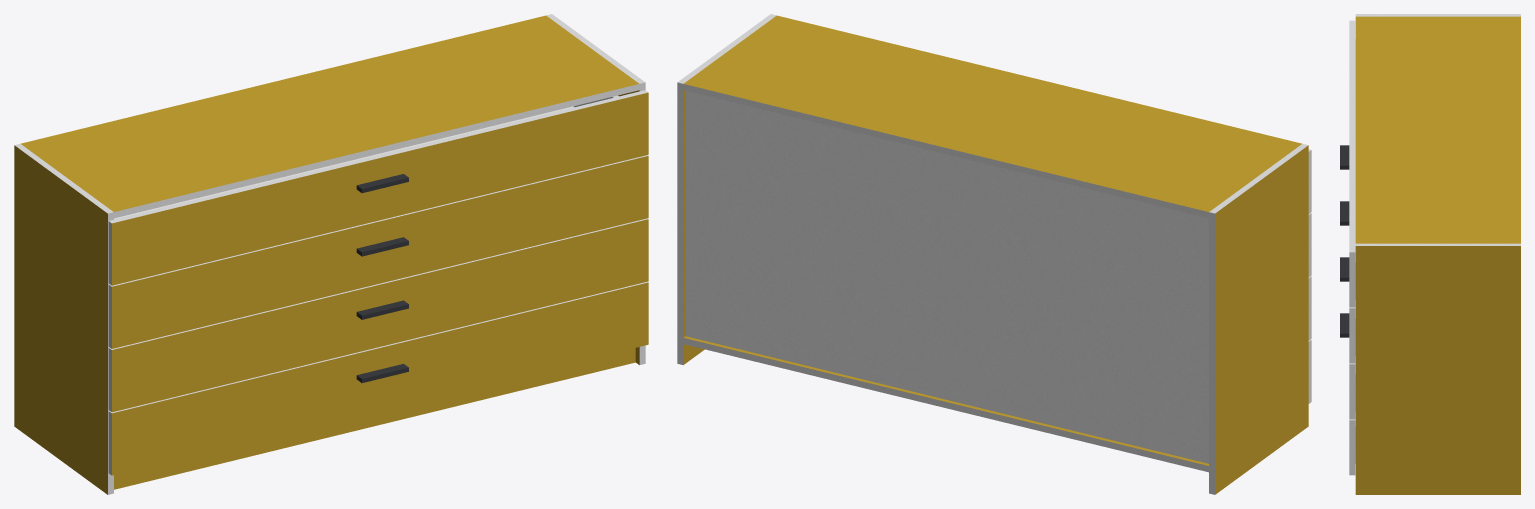
The model's file is FET-DRS-wide.glb.
The picture shows the model from 3 angles, left to right: view 1: azimuth 30°, elevation 25°; view 2: azimuth 150°, elevation 25°; view 3: azimuth 270°, elevation 25°; orthographic projection. The views are drawn at different scales.
Parts seen in each view (by area): view 1: top:pbr, d3-front:pbr, d1-front:pbr, d4-front:pbr, d2-front:pbr, side-l:pbr, plinth:pbr, top:sheet:eyJtIjoibWRmIiwic2lkZSI6ImVkZ2UtbG9uZyIsInNlZWQiOj, d4-front:sheet:eyJtIjoibWRmIiwic2lkZSI6ImVkZ2UtbG9uZyIsInNlZ, pull, d2-front:sheet:eyJtIjoibWRmIiwic2lkZSI6ImVkZ2UtbG9uZyIsInNlZ, d3-front:sheet:eyJtIjoibWRmIiwic2lkZSI6ImVkZ2UtbG9uZyIsInNlZ (+2 smaller); view 2: back:sheet:eyJtIjoibWRmIiwic2lkZSI6ImZhY2UiLCJzZWVkIjo0LCJ0a, top:pbr, side-l:pbr, top:sheet:eyJtIjoibWRmIiwic2lkZSI6ImVkZ2UtbG9uZyIsInNlZWQiOj, bottom:sheet:eyJtIjoibWRmIiwic2lkZSI6ImVkZ2UtbG9uZyIsInNlZWQ, side-r:sheet:eyJtIjoibWRmIiwic2lkZSI6ImVkZ2UtbG9uZyIsInNlZWQ, side-l:sheet:eyJtIjoibWRmIiwic2lkZSI6ImVkZ2UtbG9uZyIsInNlZWQ, bottom:pbr, side-r:pbr; view 3: side-r:pbr, top:pbr, d4-front:sheet:eyJtIjoibWRmIiwic2lkZSI6ImVkZ2UtbG9uZyIsInNlZ, pull, side-l:sheet:eyJtIjoibWRmIiwic2lkZSI6ImVkZ2UtZW5kIiwic2VlZCI, side-r:sheet:eyJtIjoibWRmIiwic2lkZSI6ImVkZ2UtZW5kIiwic2VlZCI, d1-front:sheet:eyJtIjoibWRmIiwic2lkZSI6ImVkZ2UtZW5kIiwic2VlZ, d2-front:sheet:eyJtIjoibWRmIiwic2lkZSI6ImVkZ2UtZW5kIiwic2VlZ, d3-front:sheet:eyJtIjoibWRmIiwic2lkZSI6ImVkZ2UtZW5kIiwic2VlZ, d4-front:sheet:eyJtIjoibWRmIiwic2lkZSI6ImVkZ2UtZW5kIiwic2VlZ, d4-box-front:sheet:eyJtIjoibWRmIiwic2lkZSI6ImVkZ2UtbG9uZyIsI.
Boxes of the visible parts, <box> form: top:pbr: <box>21,15,638,211</box>; d3-front:pbr: <box>112,156,648,348</box>; d1-front:pbr: <box>112,282,648,475</box>; d4-front:pbr: <box>112,92,648,285</box>; d2-front:pbr: <box>112,219,648,412</box>; side-l:pbr: <box>14,145,107,494</box>; plinth:pbr: <box>114,348,635,489</box>; top:sheet:eyJtIjoibWRmIiwic2lkZSI6ImVkZ2UtbG9uZyIsInNlZWQiOj: <box>114,84,639,218</box>; d4-front:sheet:eyJtIjoibWRmIiwic2lkZSI6ImVkZ2UtbG9uZyIsInNlZ: <box>109,90,648,223</box>; pull: <box>356,174,408,382</box>; d2-front:sheet:eyJtIjoibWRmIiwic2lkZSI6ImVkZ2UtbG9uZyIsInNlZ: <box>109,218,648,349</box>; d3-front:sheet:eyJtIjoibWRmIiwic2lkZSI6ImVkZ2UtbG9uZyIsInNlZ: <box>109,155,648,286</box>; back:sheet:eyJtIjoibWRmIiwic2lkZSI6ImZhY2UiLCJzZWVkIjo0LCJ0a: <box>685,91,1208,463</box>; top:pbr: <box>684,15,1301,211</box>; side-l:pbr: <box>1215,145,1308,494</box>; top:sheet:eyJtIjoibWRmIiwic2lkZSI6ImVkZ2UtbG9uZyIsInNlZWQiOj: <box>683,84,1208,218</box>; bottom:sheet:eyJtIjoibWRmIiwic2lkZSI6ImVkZ2UtbG9uZyIsInNlZWQ: <box>683,338,1208,472</box>; side-r:sheet:eyJtIjoibWRmIiwic2lkZSI6ImVkZ2UtbG9uZyIsInNlZWQ: <box>677,82,683,364</box>; side-l:sheet:eyJtIjoibWRmIiwic2lkZSI6ImVkZ2UtbG9uZyIsInNlZWQ: <box>1209,212,1214,494</box>; bottom:pbr: <box>683,336,1208,465</box>; side-r:pbr: <box>683,90,704,364</box>; side-r:pbr: <box>1355,246,1520,494</box>; top:pbr: <box>1355,16,1520,243</box>; d4-front:sheet:eyJtIjoibWRmIiwic2lkZSI6ImVkZ2UtbG9uZyIsInNlZ: <box>1349,20,1355,252</box>; pull: <box>1340,145,1349,337</box>; side-l:sheet:eyJtIjoibWRmIiwic2lkZSI6ImVkZ2UtZW5kIiwic2VlZCI: <box>1355,14,1520,16</box>; side-r:sheet:eyJtIjoibWRmIiwic2lkZSI6ImVkZ2UtZW5kIiwic2VlZCI: <box>1355,243,1520,245</box>; d1-front:sheet:eyJtIjoibWRmIiwic2lkZSI6ImVkZ2UtZW5kIiwic2VlZ: <box>1349,420,1355,475</box>; d2-front:sheet:eyJtIjoibWRmIiwic2lkZSI6ImVkZ2UtZW5kIiwic2VlZ: <box>1349,364,1355,419</box>; d3-front:sheet:eyJtIjoibWRmIiwic2lkZSI6ImVkZ2UtZW5kIiwic2VlZ: <box>1349,308,1355,363</box>; d4-front:sheet:eyJtIjoibWRmIiwic2lkZSI6ImVkZ2UtZW5kIiwic2VlZ: <box>1349,252,1355,307</box>; d4-box-front:sheet:eyJtIjoibWRmIiwic2lkZSI6ImVkZ2UtbG9uZyIsI: <box>1355,41,1355,259</box>.
Bounding box in the file's own units: 1.6 × 0.8 × 0.527.
91 materials, 81 textured.
